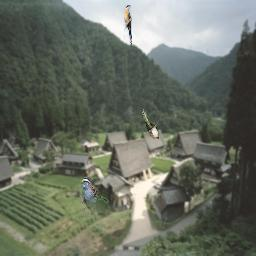Cuckoo: (141, 109, 159, 139), (124, 5, 132, 45)
Sparrow: (80, 177, 109, 217)
